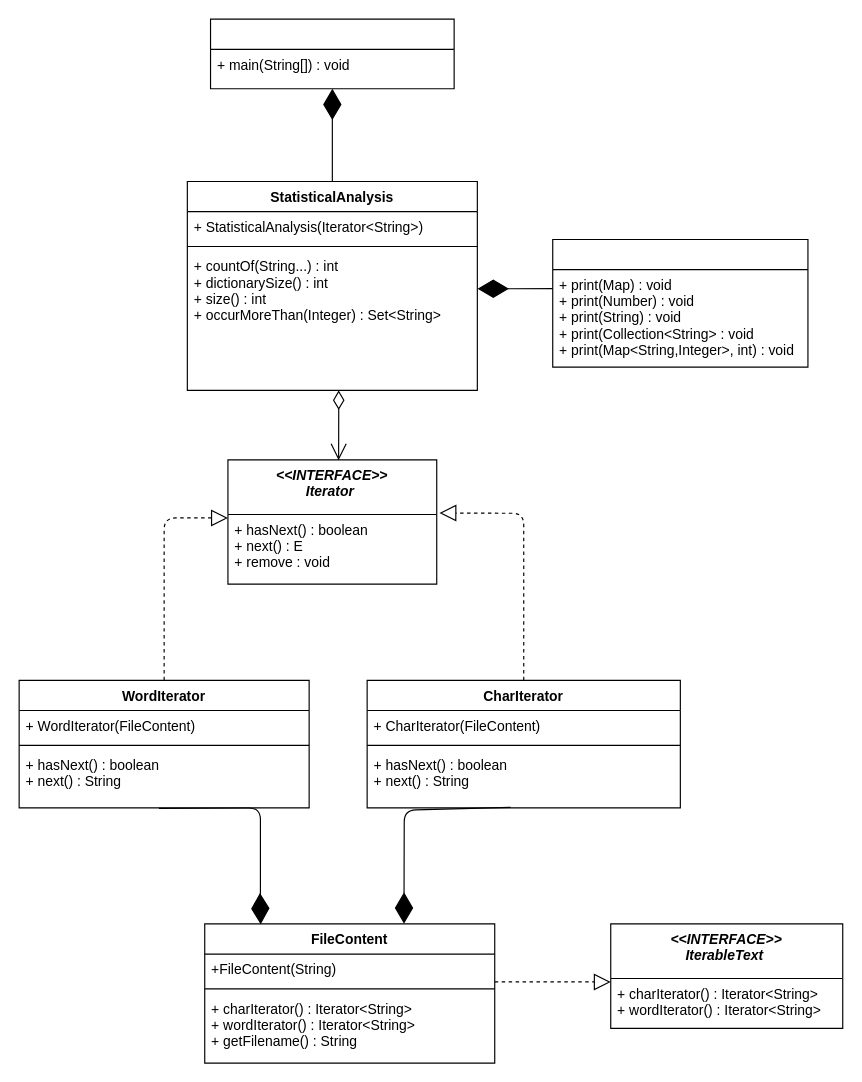
Image size: 862x1082. Some labels were removed from this diagram. The box of each missing label's shape, as (x1, y1, x2, y2) in pixels:
Application: (209, 18, 454, 89)
View: (552, 238, 808, 367)
